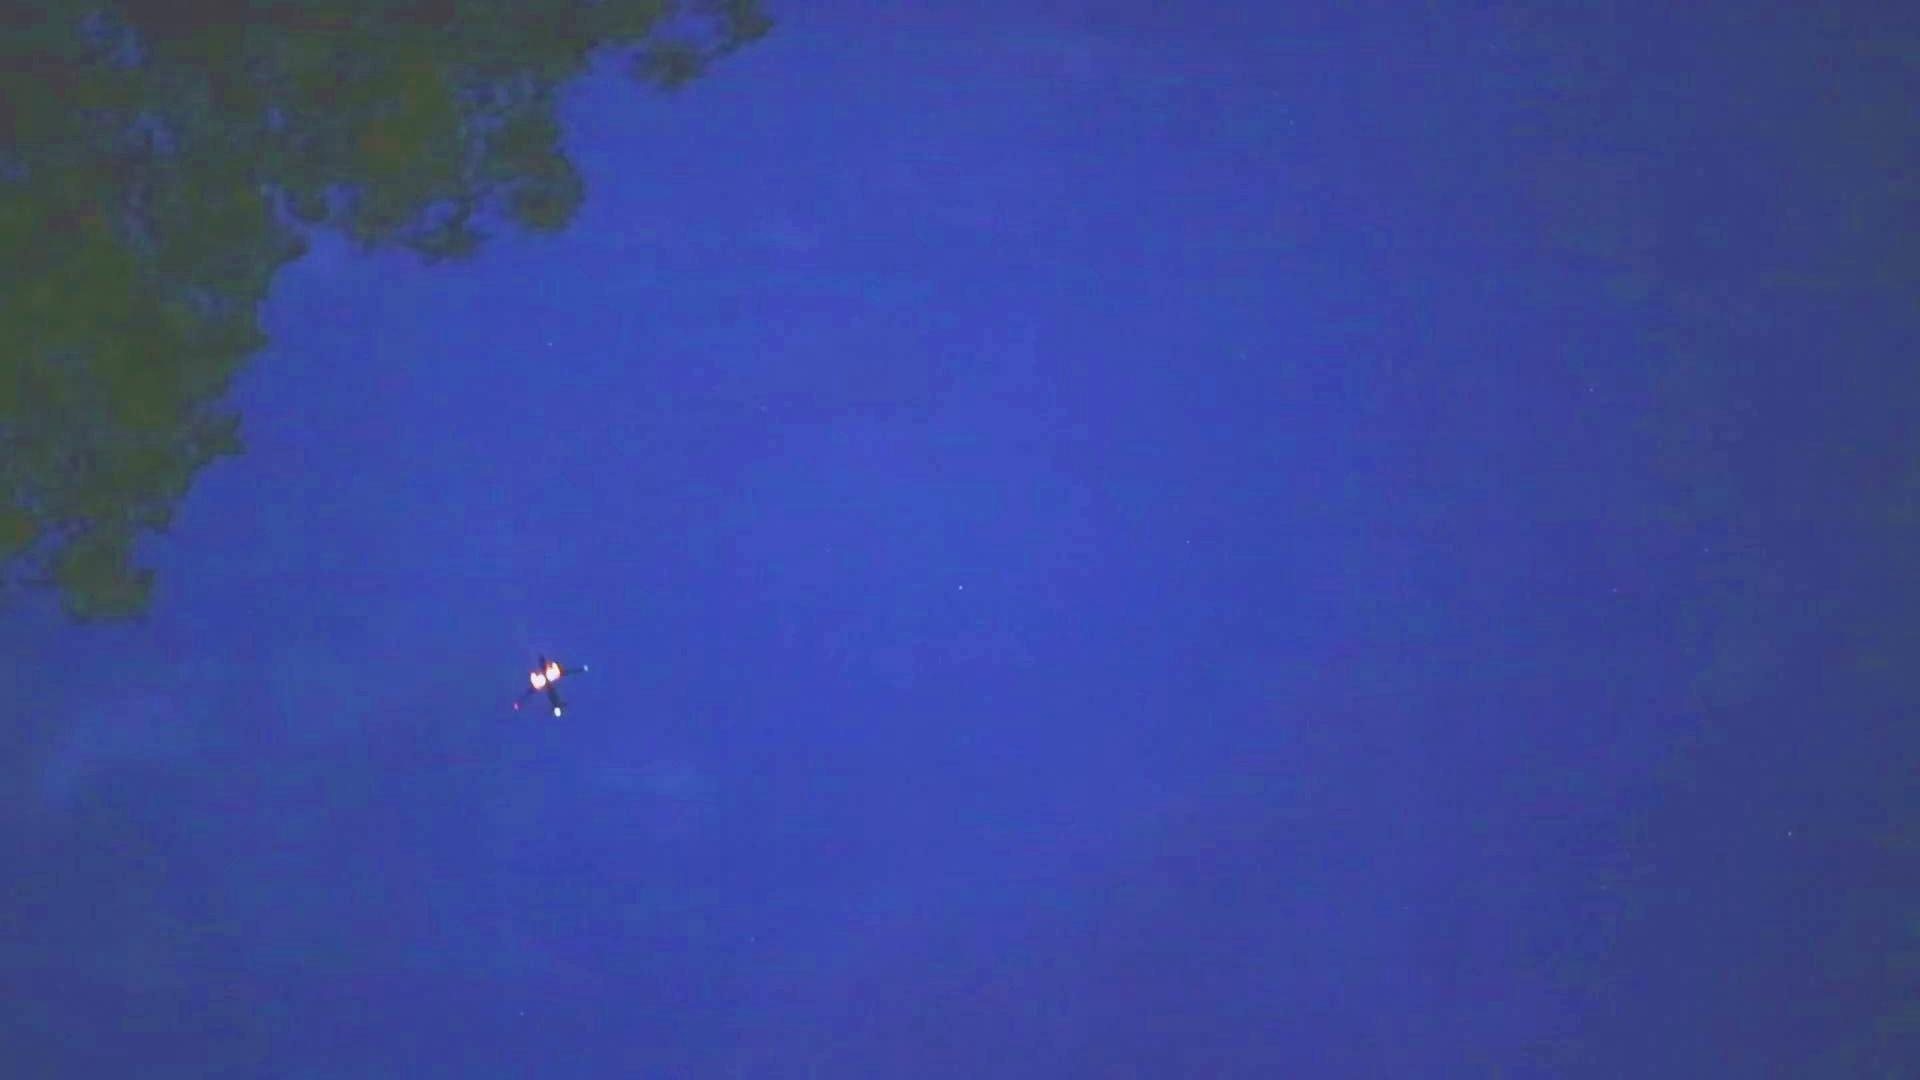Plane: (487, 636, 600, 738)
